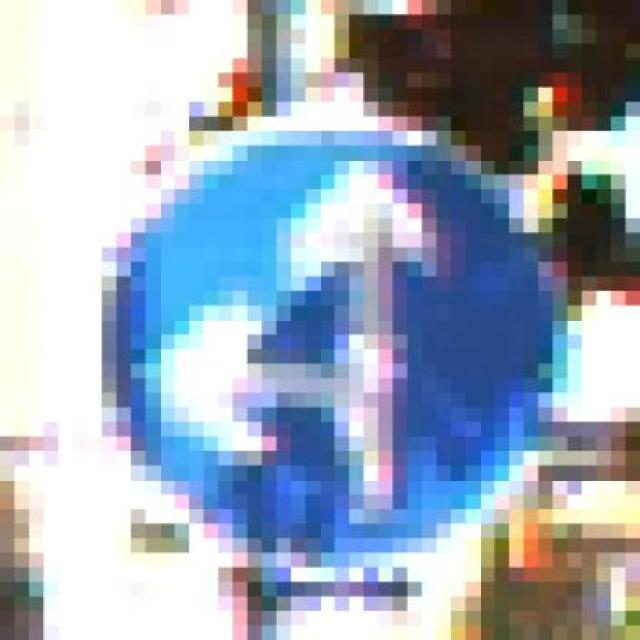Go straight or turn left: (87, 73, 582, 582)
